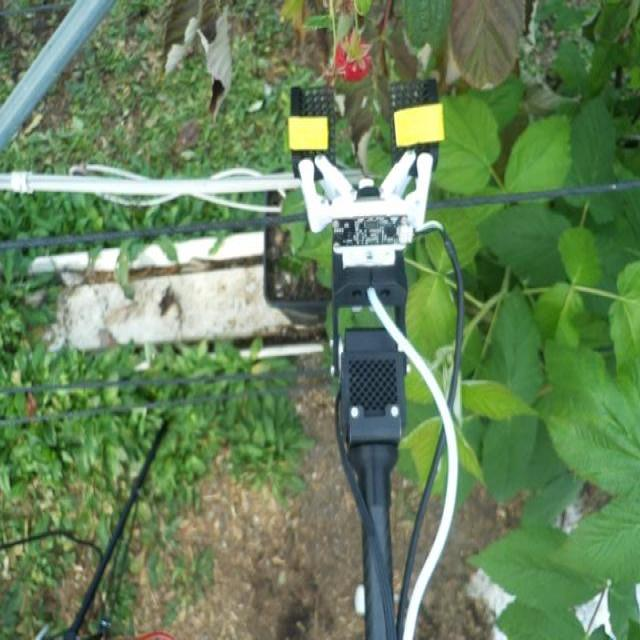Riped berries: (331, 32, 374, 84)
